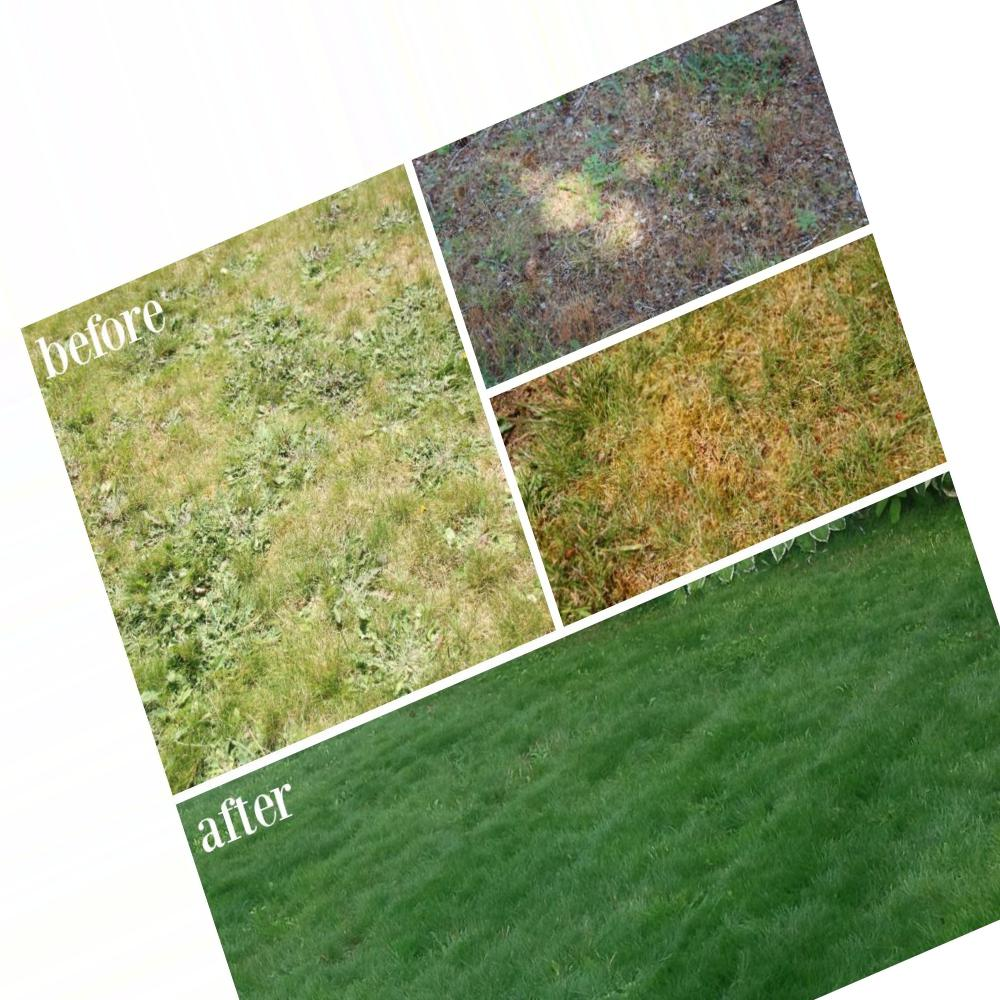patch: (33, 317, 528, 639), (465, 233, 941, 465), (580, 363, 848, 533), (496, 145, 719, 269), (150, 607, 346, 733), (235, 244, 436, 333), (523, 485, 666, 589)
